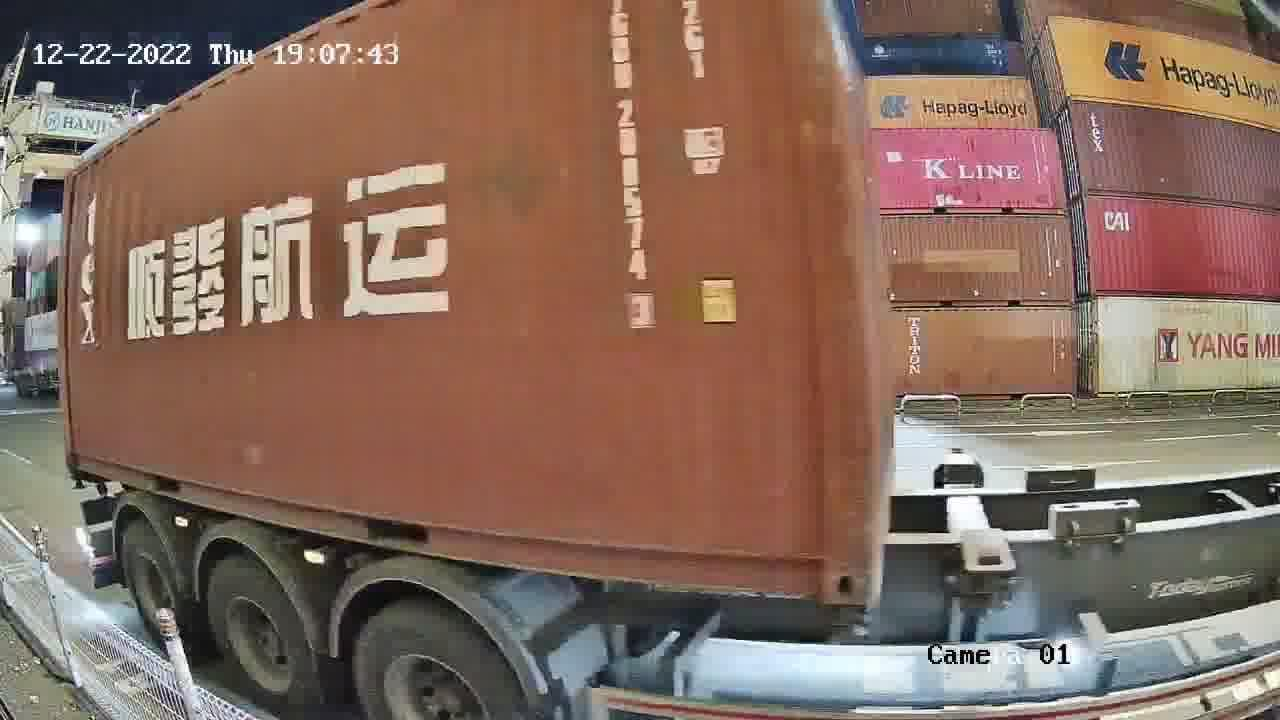Hole_R: (772, 508, 872, 605)
Tire: (354, 614, 516, 717), (207, 561, 308, 717), (122, 523, 188, 645)
